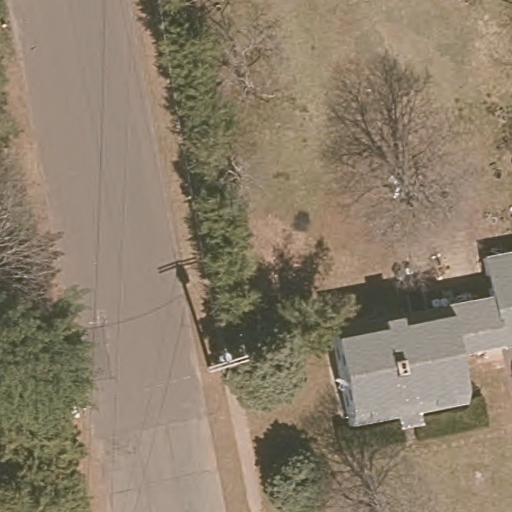DT: (206, 351, 248, 380)
